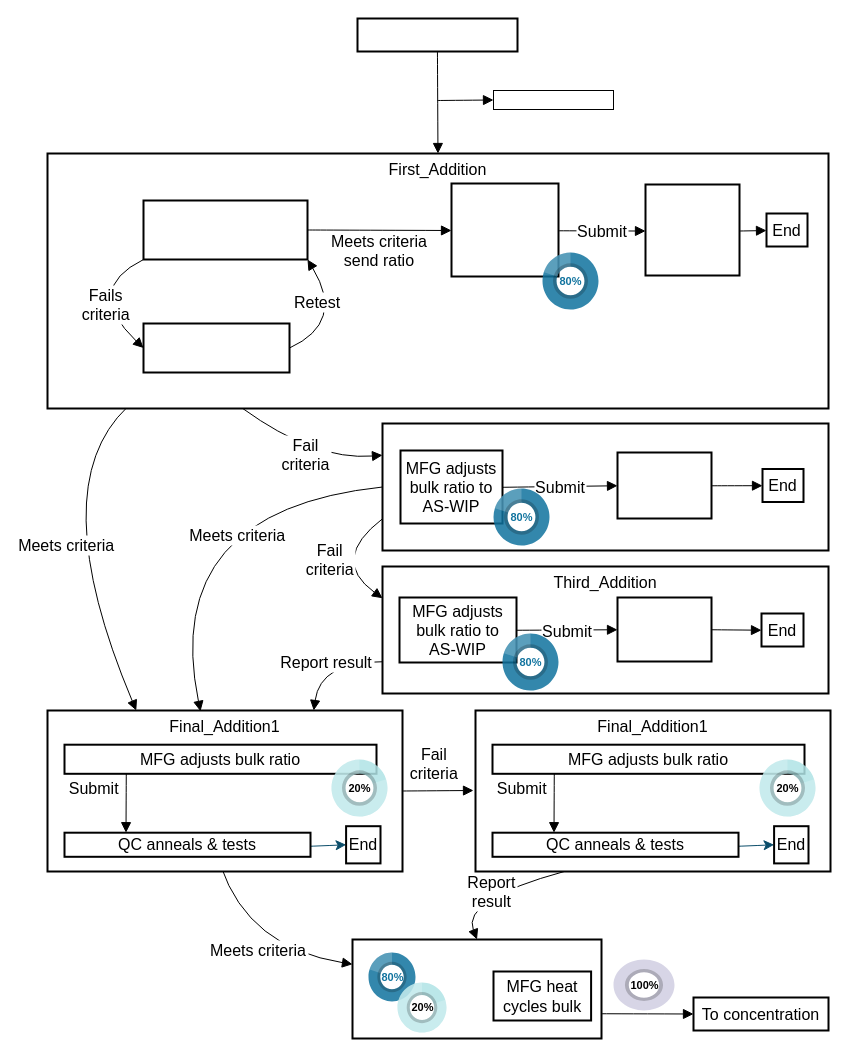
The diagram is 852 pixels wide and 1056 high, and some of its shapes have lost their labels. Here are the shapes that lost their labels. From the top down, the box of each, then its label:
(356, 17, 518, 52): From UDP WIP
(492, 90, 614, 110): Sample ~20g
(142, 199, 308, 260): QC makes test anneals and tests
(450, 182, 559, 277): MFG makes cold mix commits 80% AS-WIP
(644, 183, 740, 276): QC anneals and tests AS#1-S
(142, 322, 290, 373): Make more test anneals in QC
(381, 422, 829, 551): Second_Addition
(616, 451, 712, 519): QC anneals and tests AS#2-S
(616, 596, 712, 662): QC anneals and tests AS#3-S
(351, 938, 602, 1039): Temp_Cycle
